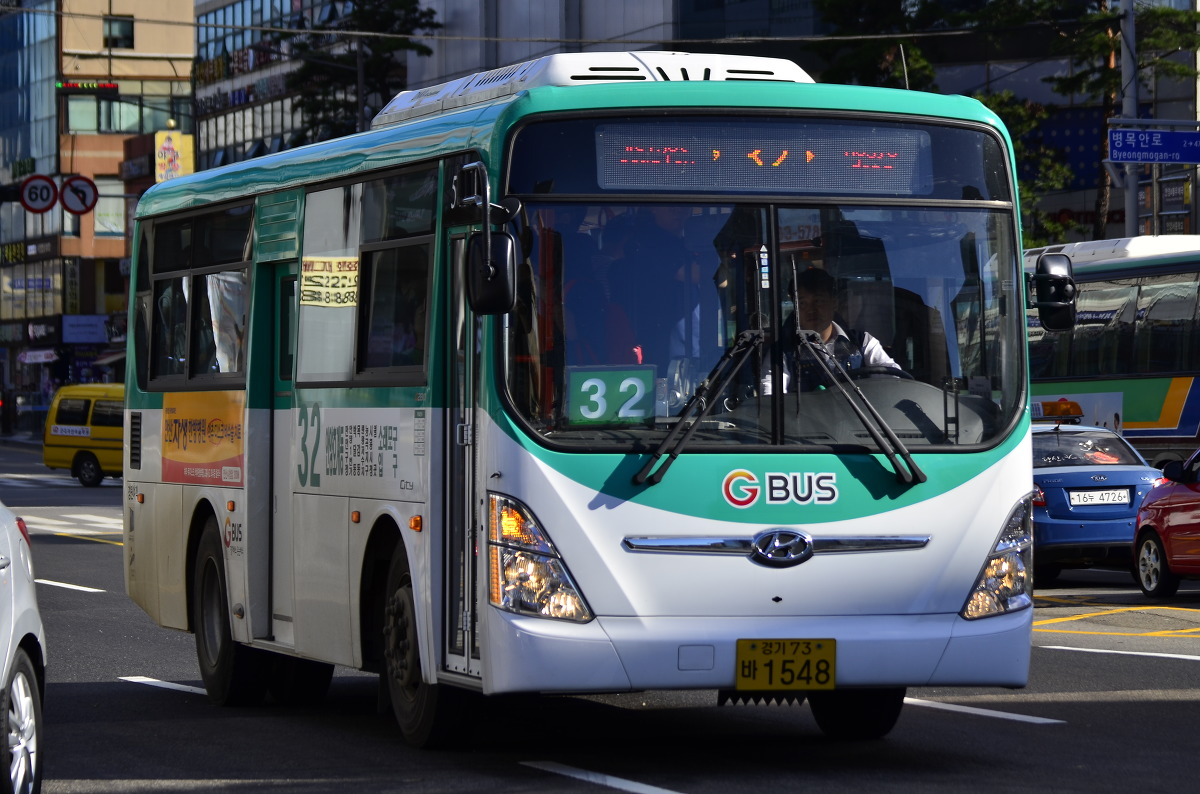bnum: (569, 366, 654, 423)
